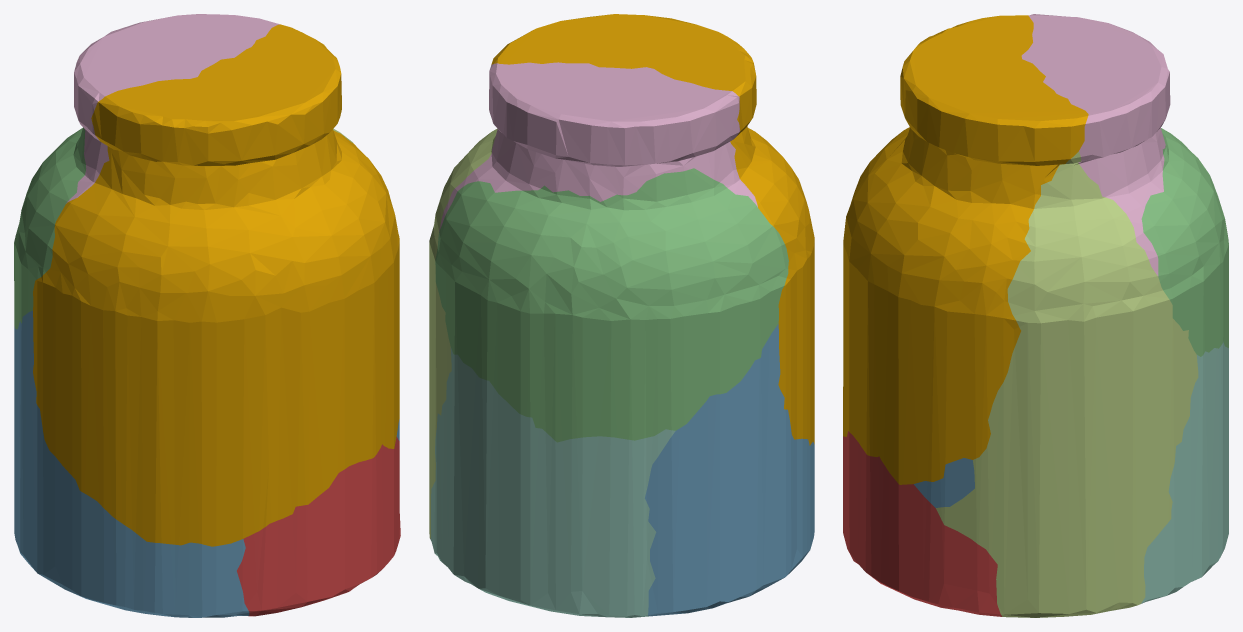
Rendered from mode_6_8pcs.glb.
3 views of the same model, side by side, from view 1: azimuth 30°, elevation 25°; view 2: azimuth 150°, elevation 25°; view 3: azimuth 270°, elevation 25° (orthographic).
Visible parts, largest first — view 1: piece_0.obj, piece_2.obj, piece_1.obj, piece_6.obj, piece_3.obj; view 2: piece_3.obj, piece_4.obj, piece_2.obj, piece_6.obj, piece_0.obj, piece_5.obj; view 3: piece_0.obj, piece_5.obj, piece_6.obj, piece_1.obj, piece_4.obj, piece_3.obj, piece_2.obj.
Part boxes in pixels (x1=…): piece_0.obj: x1=33, y1=24, x2=399, y2=546; piece_2.obj: x1=14, y1=310, x2=399, y2=617; piece_1.obj: x1=237, y1=437, x2=400, y2=616; piece_6.obj: x1=66, y1=14, x2=279, y2=203; piece_3.obj: x1=14, y1=127, x2=86, y2=329; piece_3.obj: x1=435, y1=168, x2=788, y2=442; piece_4.obj: x1=430, y1=347, x2=675, y2=617; piece_2.obj: x1=645, y1=324, x2=814, y2=616; piece_6.obj: x1=439, y1=62, x2=757, y2=231; piece_0.obj: x1=491, y1=14, x2=814, y2=445; piece_5.obj: x1=429, y1=128, x2=497, y2=538; piece_0.obj: x1=843, y1=15, x2=1088, y2=484; piece_5.obj: x1=936, y1=151, x2=1198, y2=617; piece_6.obj: x1=1021, y1=14, x2=1170, y2=276; piece_1.obj: x1=843, y1=431, x2=1001, y2=616; piece_4.obj: x1=1141, y1=341, x2=1228, y2=603; piece_3.obj: x1=1141, y1=128, x2=1228, y2=356; piece_2.obj: x1=914, y1=458, x2=974, y2=507.
Size of the model in its own units: 0.7401 by 1 by 0.74.
